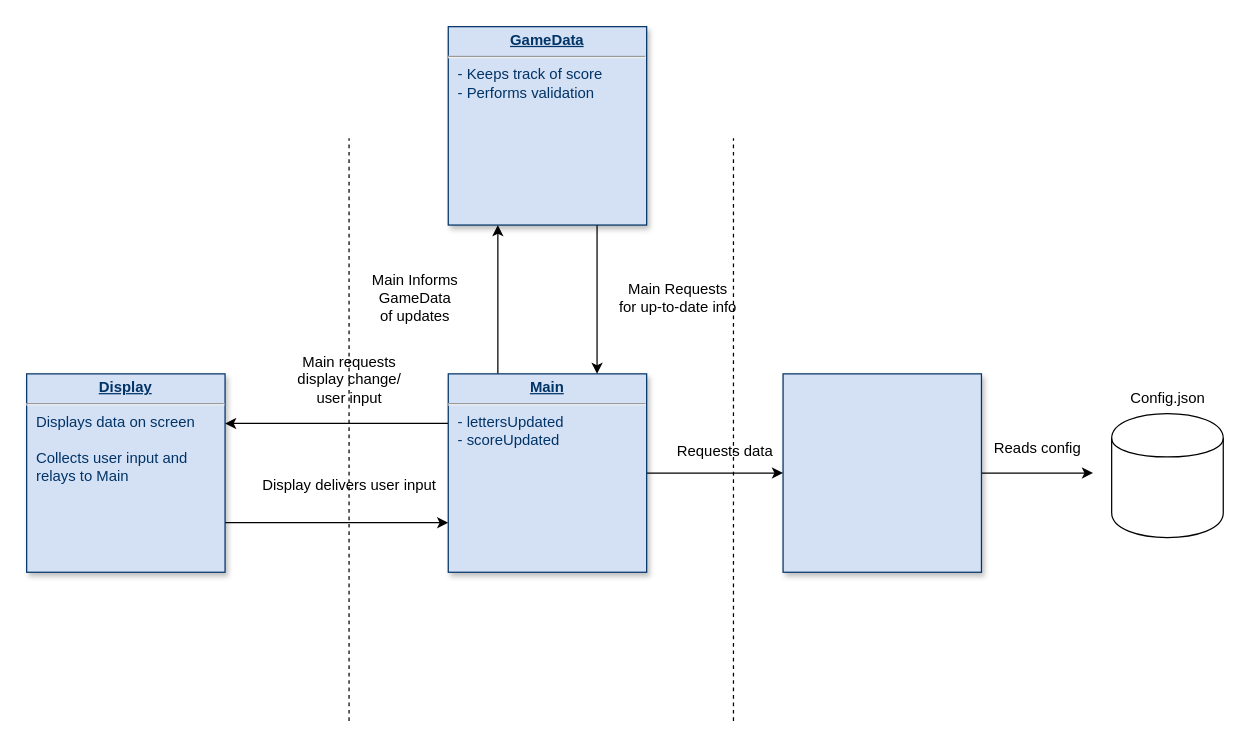
Some shapes in this 1245 by 744 pixel diagram are drawn without their labels. The shapes that lost their labels are listed below. From the top down, each one's centre as x and y in pixels, then its label:
At (883,474): "ConfigReader - Reads config".
At (1166,475): "Contains admin-controlled data".
